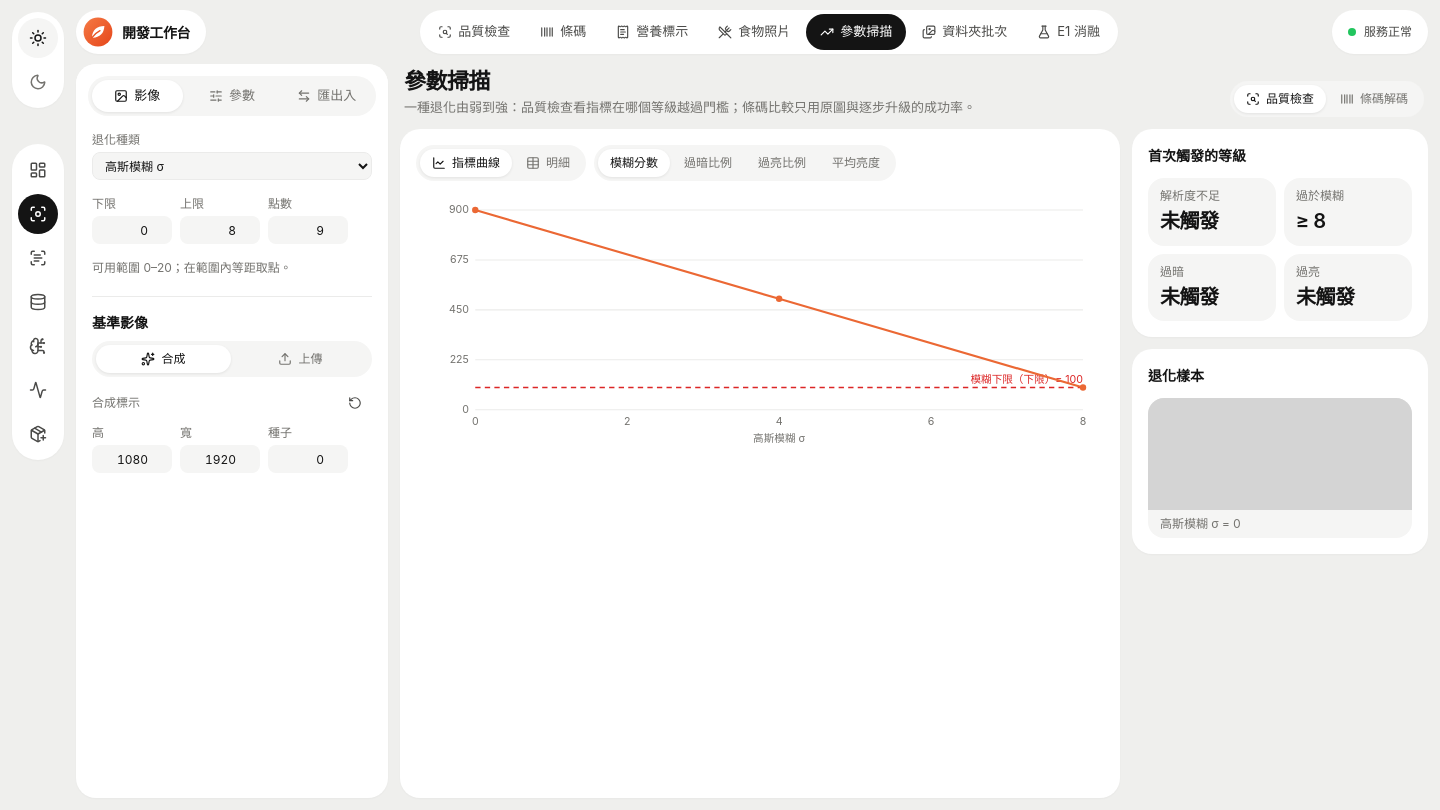
Scenario: 參數掃描頁 › 條碼：比較只用原圖與逐步升級，切換退化種類時套用預設範圍
Expected: the text "≥ 8" is shown, left=1296, top=209, right=1326, bottom=233
Click the radio button labelled "條碼解碼". click: [1374, 99]
box: left=1328, top=85, right=1420, bottom=113
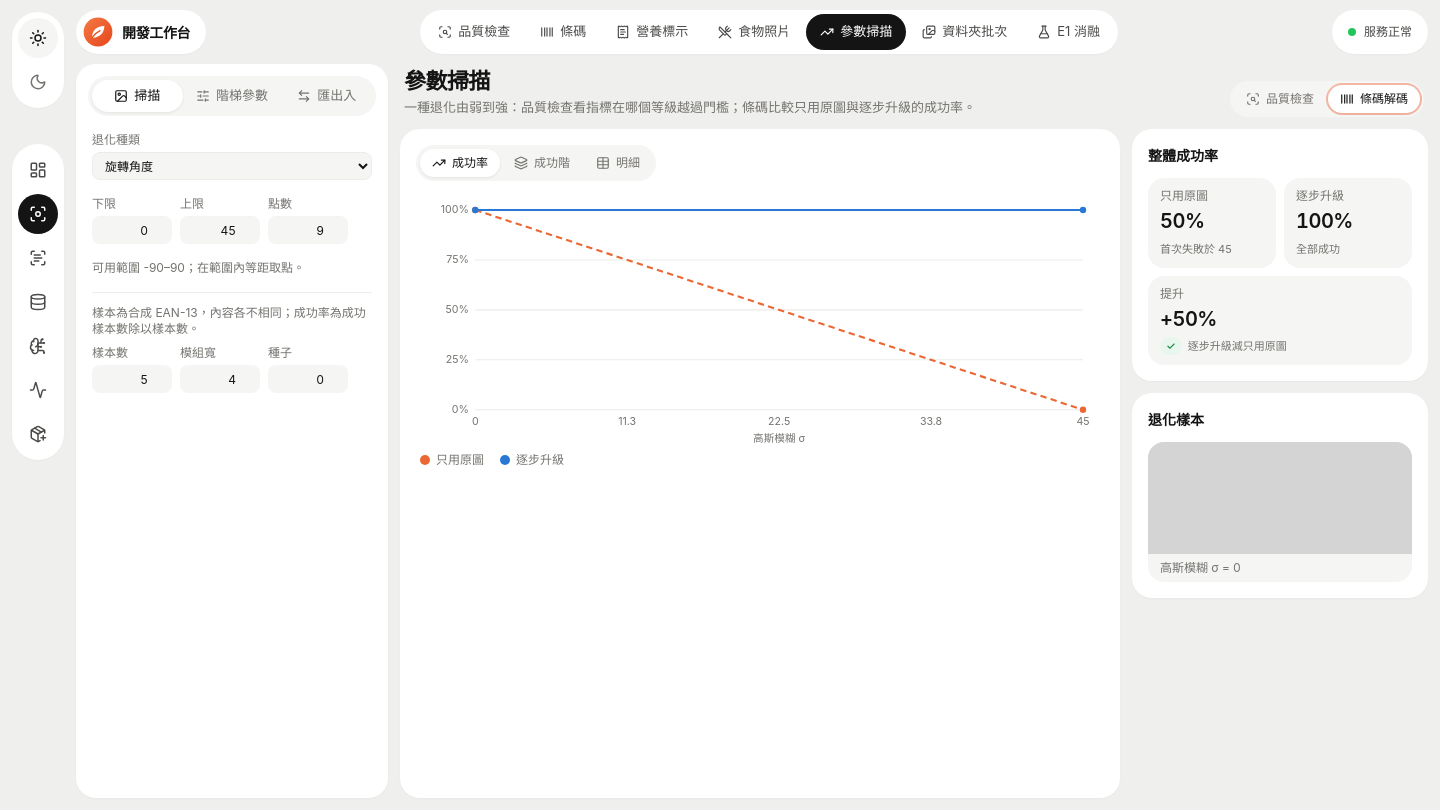
Expected: the text "首次失敗於 45" is shown, left=1160, top=240, right=1232, bottom=258
Expected: the text "+50%" is shown, left=1160, top=306, right=1217, bottom=330
Expected: the tab "掃描" is shown, left=92, top=80, right=183, bottom=112
